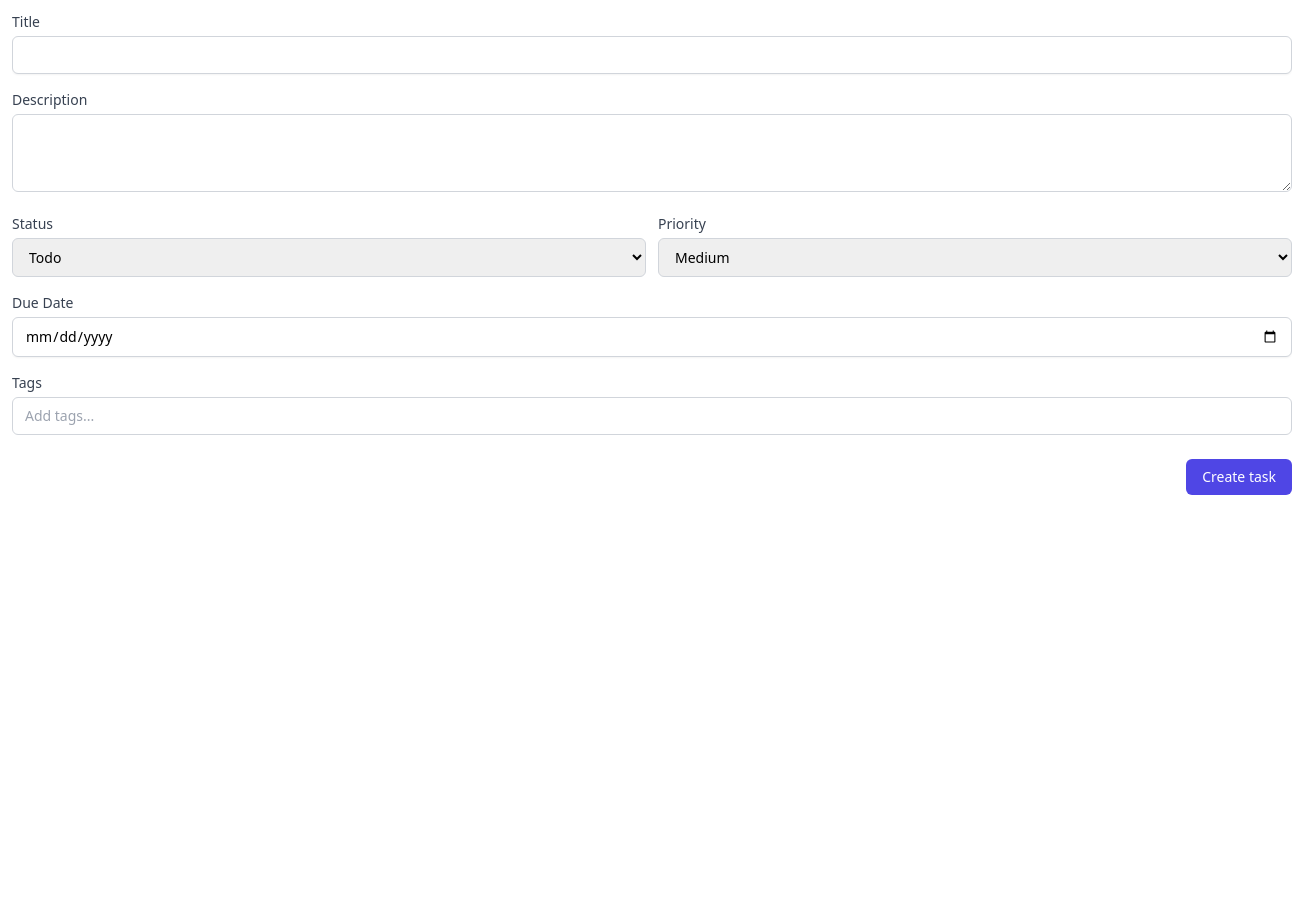
TaskForm › shows inline error when tag creation fails
Type "newone" into the field with placeholder "Add tags..." at (652, 416), box x1=12 y1=397 x2=1292 y2=435
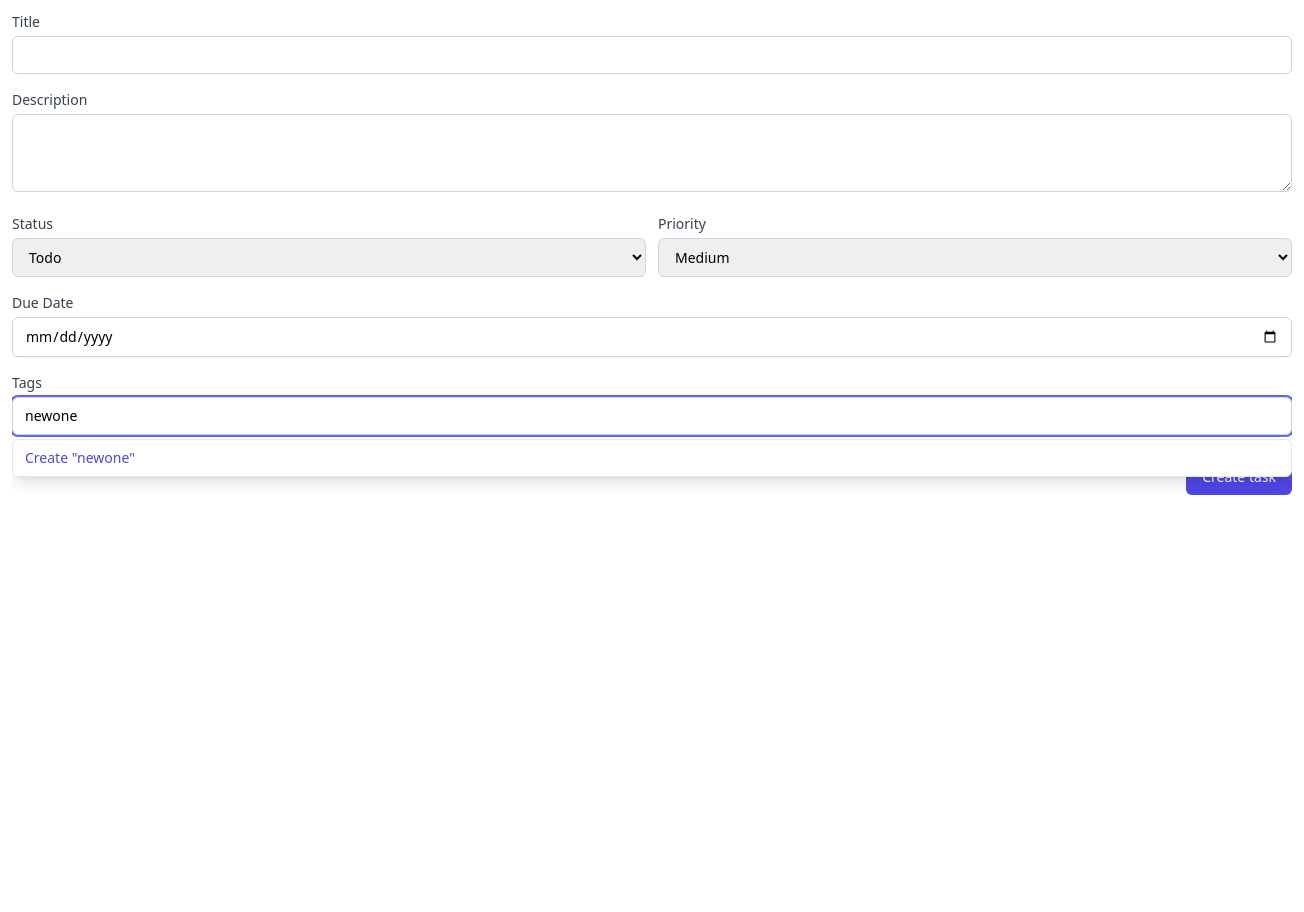
Expected: the button "Create \"newone\"" is shown
Click the button "Create \"newone\"" at (51, 458), box x1=13 y1=440 x2=1291 y2=476
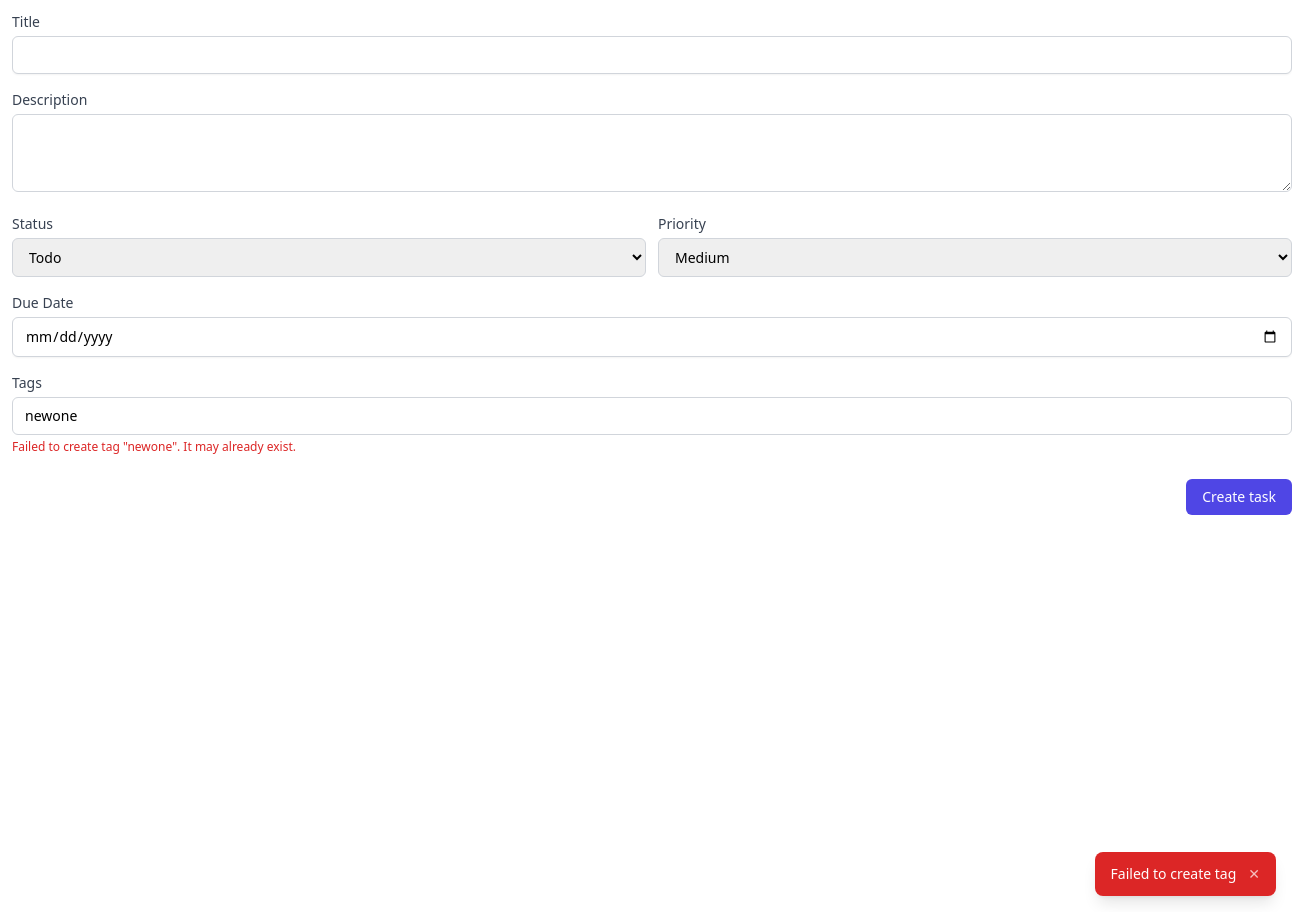
Expected: the text "Failed to create tag \"newone\". It may already exist." is shown 2 times, x1=12 y1=438 x2=296 y2=455; x1=1110 y1=864 x2=1236 y2=884
